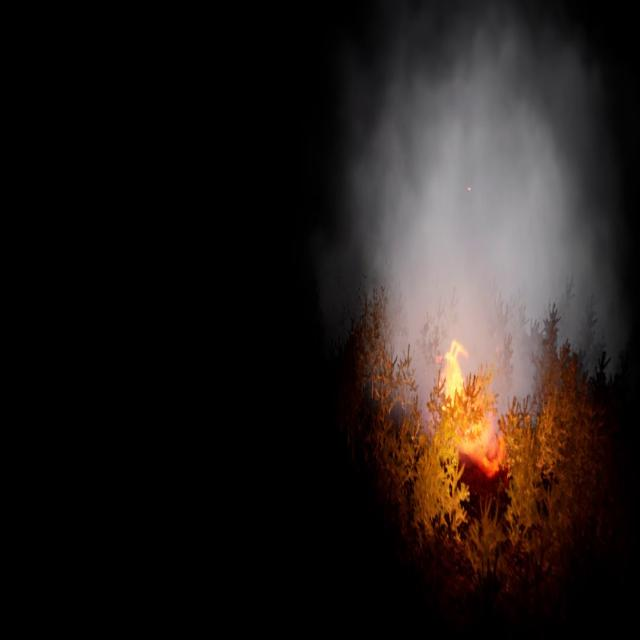fire: (432, 339, 502, 477)
smoke: (310, 0, 640, 438)
